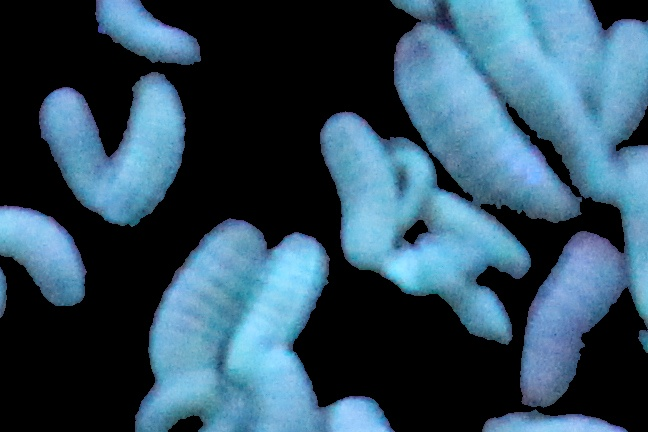larvae: (398, 26, 573, 210), (142, 216, 253, 396), (221, 220, 335, 392), (519, 232, 624, 413), (453, 1, 579, 146), (317, 108, 409, 273), (91, 67, 184, 226), (1, 198, 87, 321), (87, 1, 213, 81), (37, 93, 120, 209), (421, 191, 532, 273), (528, 1, 609, 104), (115, 368, 236, 427), (598, 6, 648, 146), (389, 130, 443, 225), (1, 251, 13, 344)
